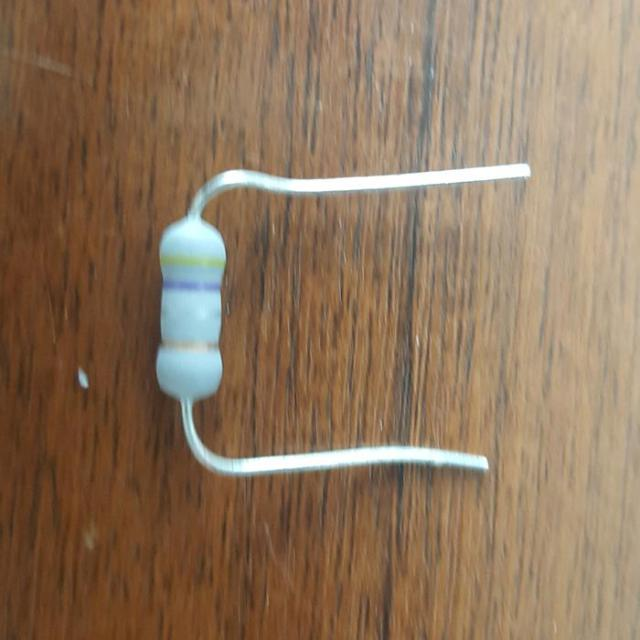Resistor: (156, 218, 226, 399)
gold: (161, 338, 220, 349)
purple: (162, 280, 224, 290)
yellow: (160, 256, 226, 267)
